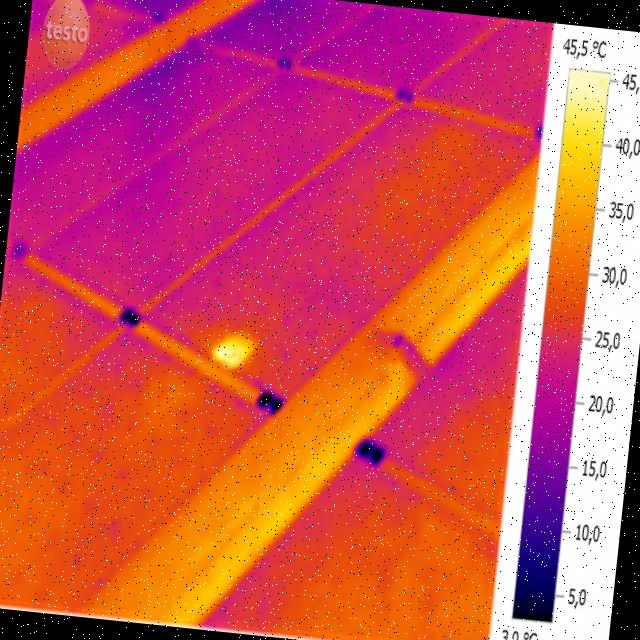Hotspot: (210, 330, 254, 370)
